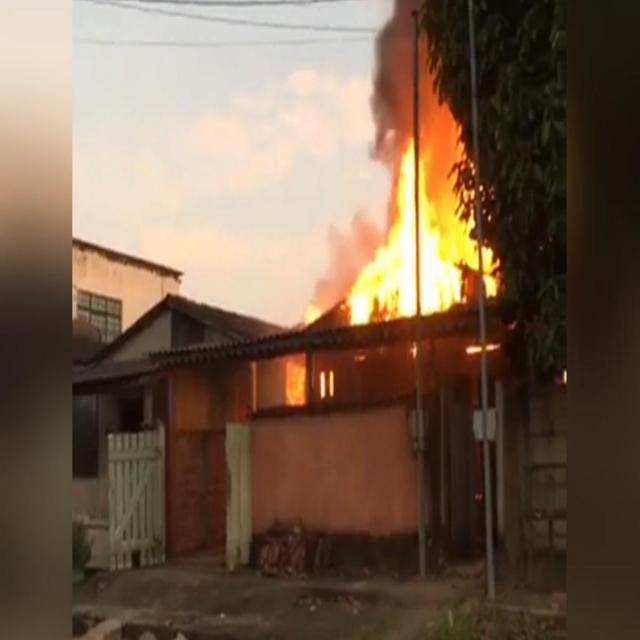fire: (345, 11, 487, 329)
